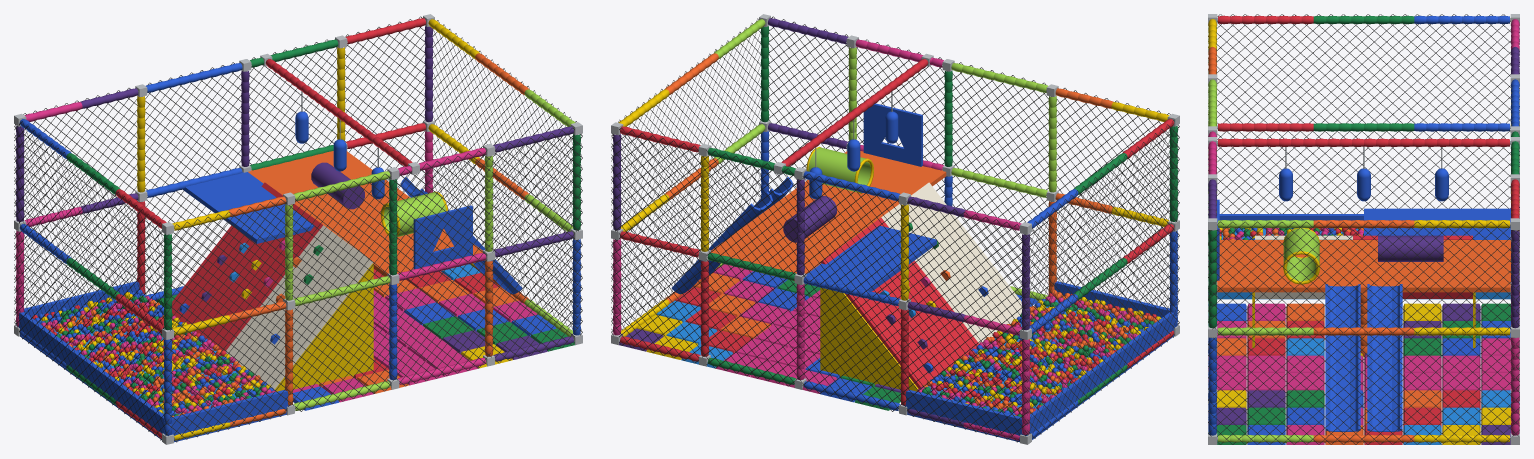
Rendered from web.glb.
The picture shows the model from 3 angles, left to right: view 1: azimuth 30°, elevation 25°; view 2: azimuth 150°, elevation 25°; view 3: azimuth 270°, elevation 25°; orthographic projection. The views are drawn at different scales.
Parts seen in each view (by area): view 1: rede, isotubo, plataforma, piso, bolinhas, acolchoado, metal, plastico; view 2: rede, isotubo, plataforma, piso, bolinhas, acolchoado, metal, plastico; view 3: piso, rede, isotubo, plataforma, plastico, acolchoado, metal, bolinhas.
Boxes of the visible parts, bbox=[...] form: rede: bbox=[14, 16, 582, 442]; isotubo: bbox=[16, 18, 580, 440]; plataforma: bbox=[171, 151, 484, 391]; piso: bbox=[156, 264, 574, 410]; bolinhas: bbox=[32, 289, 275, 416]; acolchoado: bbox=[16, 111, 447, 442]; metal: bbox=[14, 14, 582, 444]; plastico: bbox=[179, 177, 522, 344]; rede: bbox=[611, 16, 1179, 442]; isotubo: bbox=[613, 18, 1177, 440]; plataforma: bbox=[709, 103, 1022, 391]; piso: bbox=[619, 264, 1037, 410]; bolinhas: bbox=[917, 290, 1161, 416]; acolchoado: bbox=[783, 111, 1177, 442]; metal: bbox=[611, 14, 1179, 444]; plastico: bbox=[671, 177, 988, 373]; piso: bbox=[1208, 303, 1519, 444]; rede: bbox=[1208, 14, 1519, 444]; isotubo: bbox=[1208, 15, 1519, 443]; plataforma: bbox=[1216, 199, 1511, 347]; plastico: bbox=[1325, 284, 1402, 431]; acolchoado: bbox=[1217, 168, 1510, 299]; metal: bbox=[1208, 14, 1519, 444]; bolinhas: bbox=[1219, 228, 1363, 239].
Bounding box in the file's own units: 6 × 3 × 3.8.
8 materials, 8 textured.
